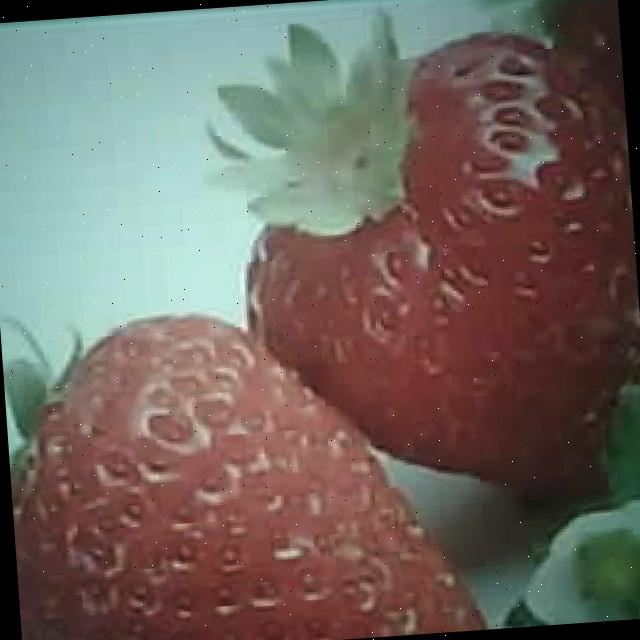strawberry: (230, 20, 640, 516), (0, 289, 478, 640)
